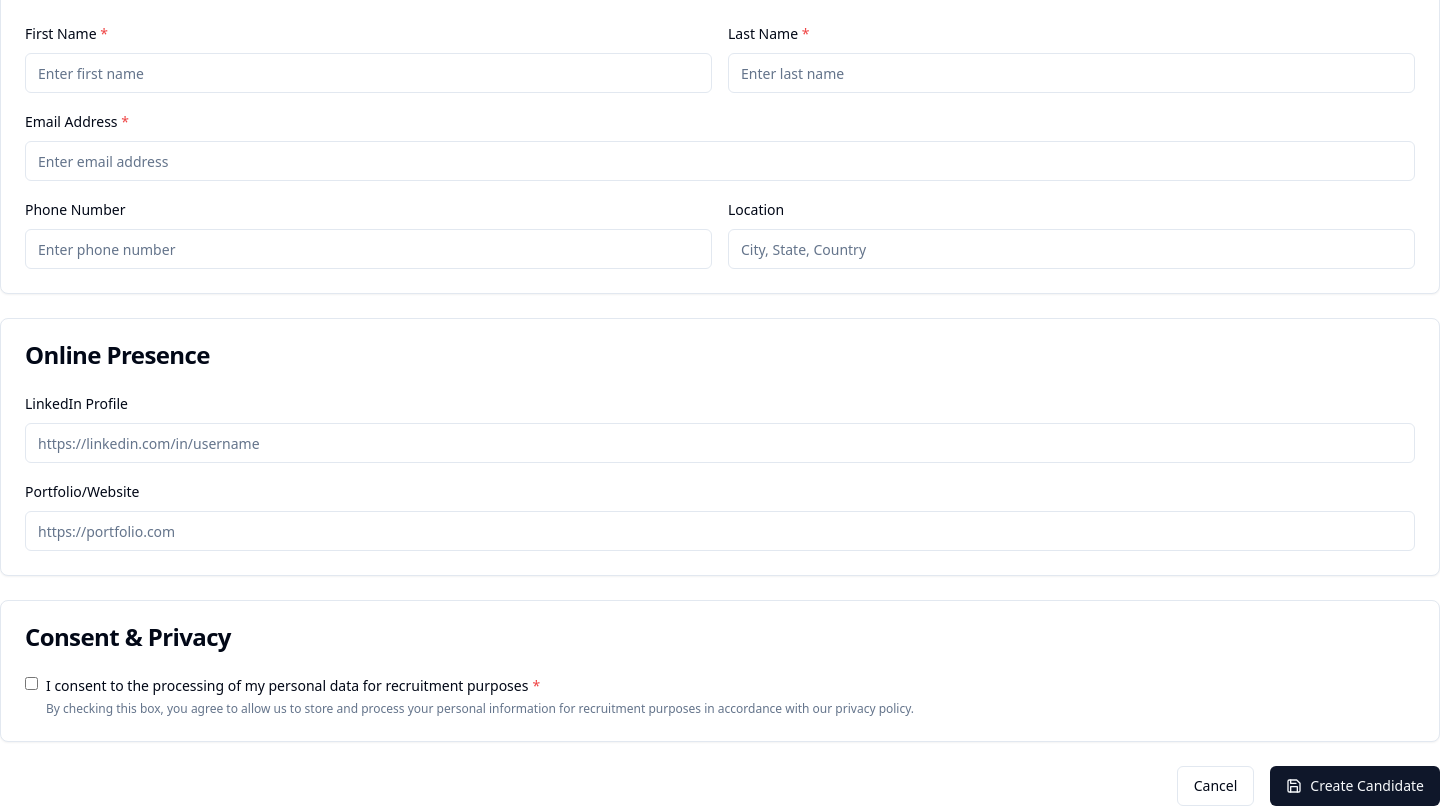
CandidateForm › shows validation errors for required fields
(page scrolled)
Click the button "Create Candidate".
click(1355, 786)  # box [1270,766,1440,805]
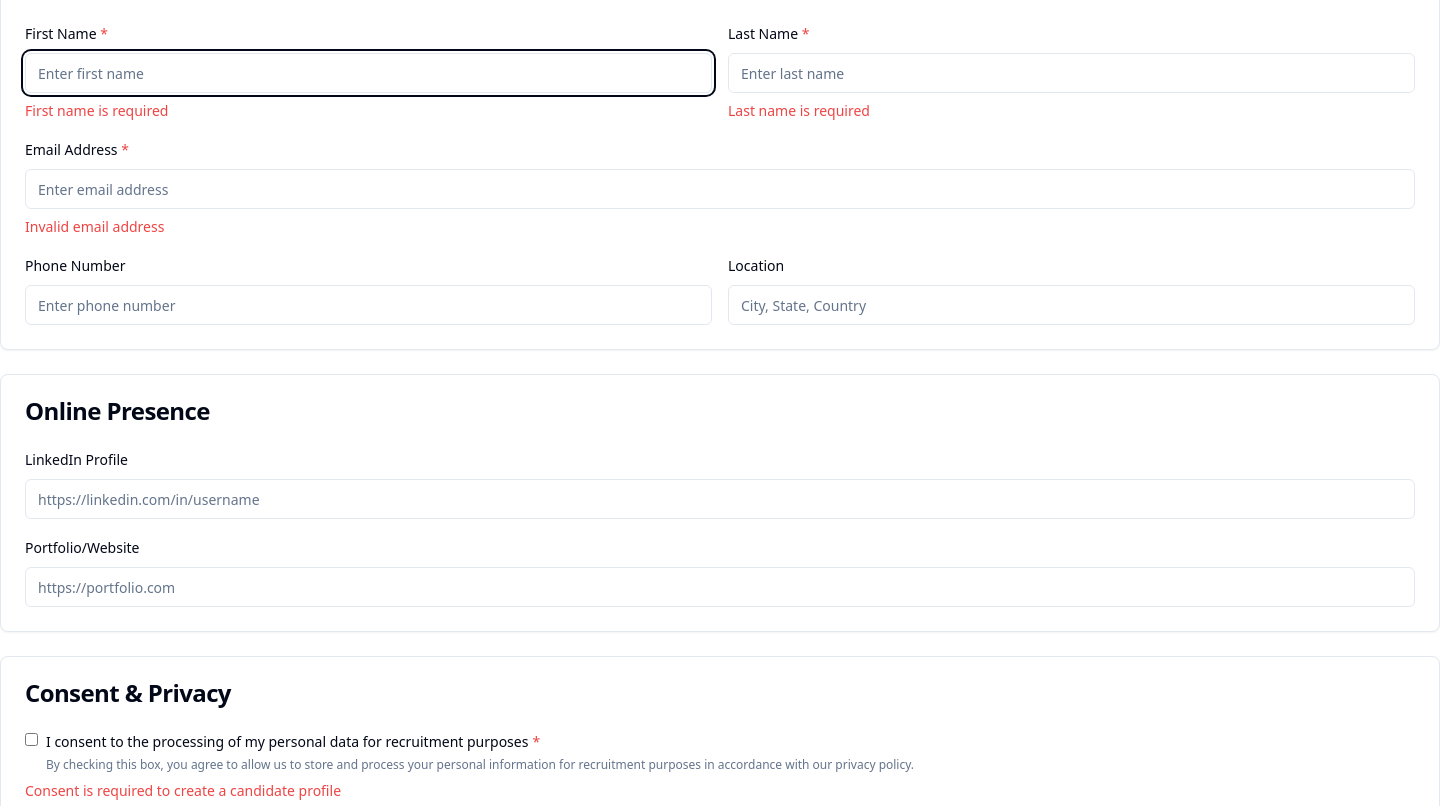
expect the text "First name is required" is shown: met, box [25,101,168,120]
expect the text "Last name is required" is shown: met, box [728,101,870,120]
expect the text "Invalid email address" is shown: met, box [25,217,164,236]
